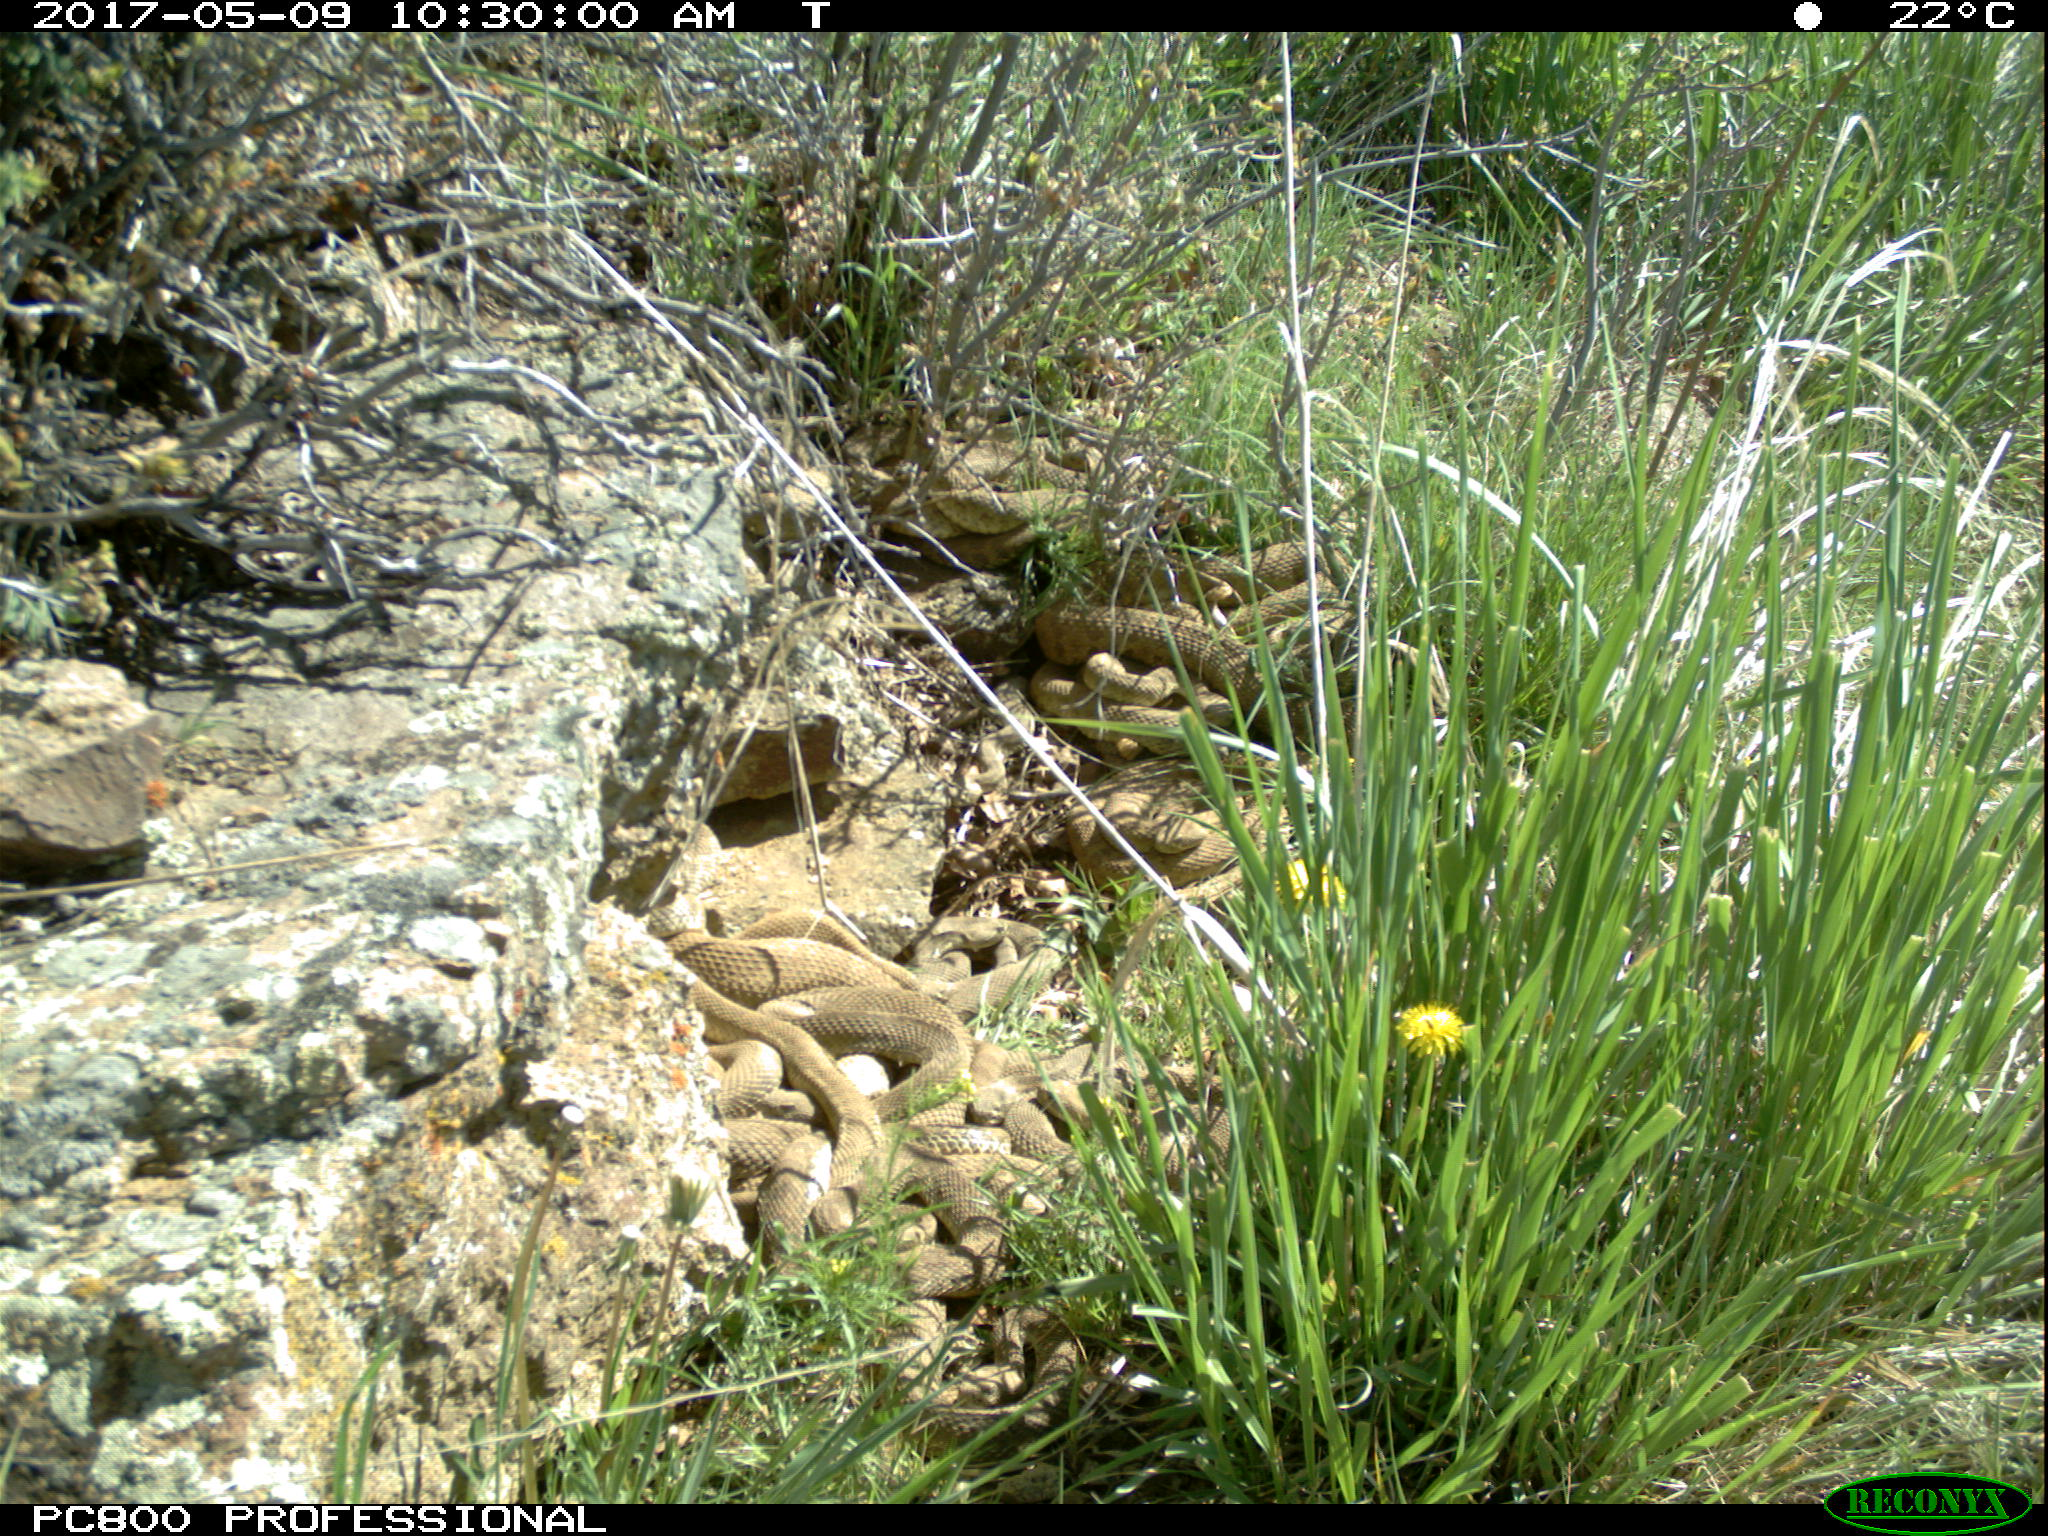snake: (663, 837, 971, 1104), (1043, 547, 1374, 739), (714, 1081, 979, 1250), (985, 1046, 1256, 1204), (885, 1275, 1097, 1441), (876, 421, 1127, 552), (1074, 781, 1288, 899)
